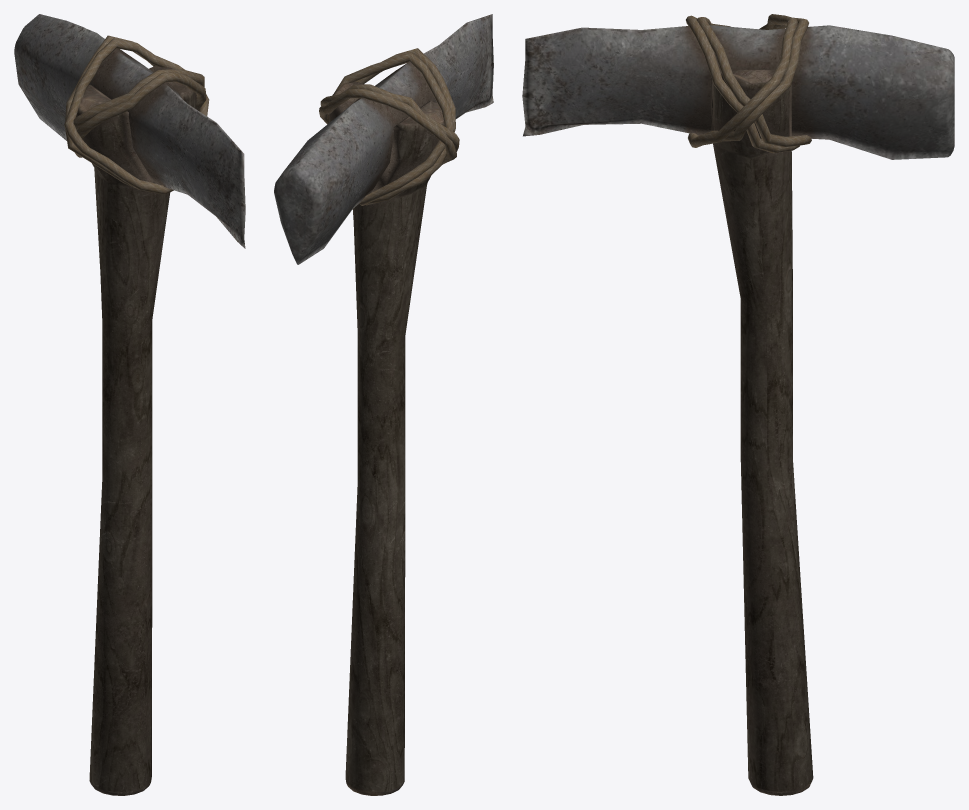
Rendered from tool_hammer.glb.
3 views of the same model, side by side, from view 1: azimuth 30°, elevation 25°; view 2: azimuth 150°, elevation 25°; view 3: azimuth 270°, elevation 25° (orthographic). The views are drawn at different scales.
Visible parts, largest first — view 1: tool_hammer; view 2: tool_hammer; view 3: tool_hammer.
Part boxes in pixels (x1,y1,x2,y2): tool_hammer: (14,14,245,795); tool_hammer: (274,14,493,795); tool_hammer: (522,14,954,795).
Bounding box in the file's own units: 0.0913 × 0.46 × 0.2341.
Materials: 2 (2 with a texture image).
